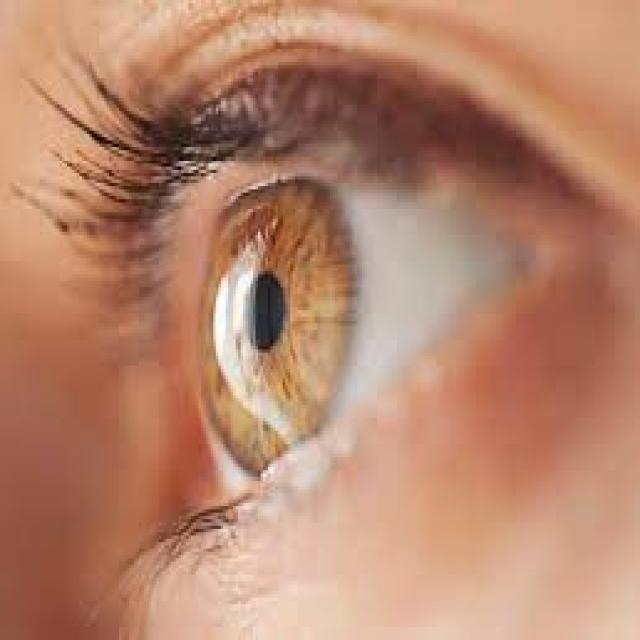Eyes-iris: (186, 165, 363, 474)
